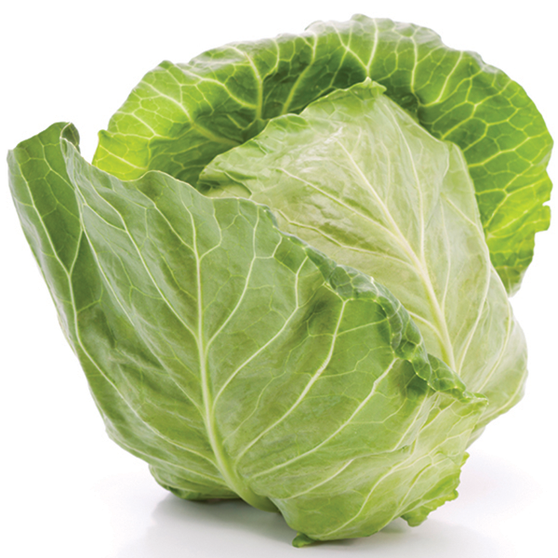cabbage: (42, 20, 545, 542)
